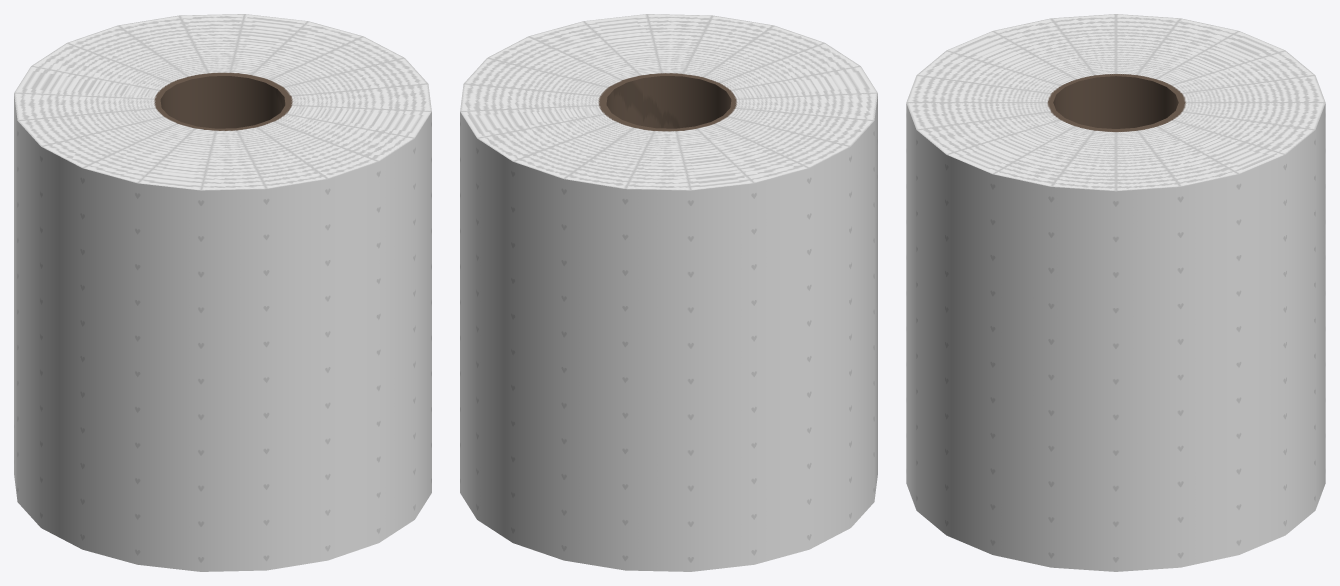
Rendered from Elements_Tissue-Plain.fbx.
3 views of the same model, side by side, from view 1: azimuth 30°, elevation 25°; view 2: azimuth 150°, elevation 25°; view 3: azimuth 270°, elevation 25° (orthographic).
Parts seen in each view (by area): view 1: Tissue_Roll_Single; view 2: Tissue_Roll_Single; view 3: Tissue_Roll_Single.
Boxes of the visible parts, bbox=[...] form: Tissue_Roll_Single: bbox=[14, 14, 431, 571]; Tissue_Roll_Single: bbox=[460, 14, 877, 571]; Tissue_Roll_Single: bbox=[906, 14, 1325, 571].
Size of the model in its own units: 1.37 by 1.37 by 1.37.
Materials: 1 (1 with a texture image).
